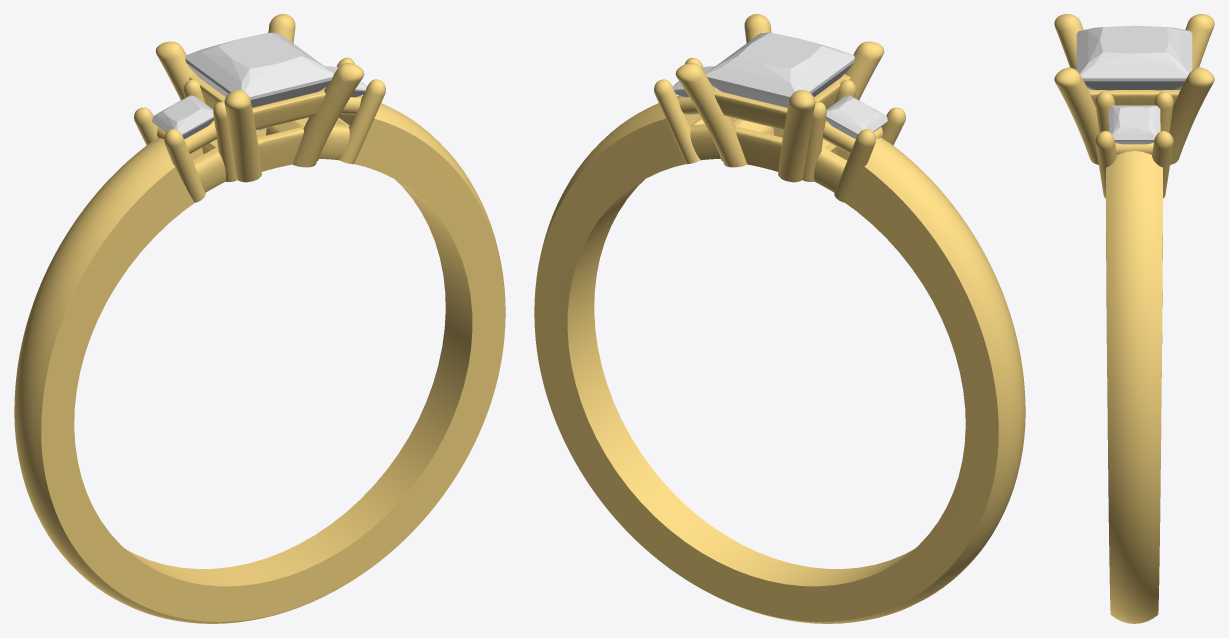
Rendered from Peter_&_Carina_v2_blender.glb.
The picture shows the model from 3 angles, left to right: view 1: azimuth 30°, elevation 25°; view 2: azimuth 150°, elevation 25°; view 3: azimuth 270°, elevation 25°; orthographic projection.
Visible parts, largest first — view 1: v2 YG for 3d model, v2 dia for 3d model.002, v2 dia for 3d model.001; view 2: v2 YG for 3d model, v2 dia for 3d model.002, v2 dia for 3d model.001; view 3: v2 YG for 3d model, v2 dia for 3d model.002, v2 dia for 3d model.
Part boxes in pixels (x1=…): v2 YG for 3d model: x1=14, y1=14, x2=505, y2=623; v2 dia for 3d model.002: x1=185, y1=32, x2=334, y2=130; v2 dia for 3d model.001: x1=152, y1=95, x2=213, y2=138; v2 YG for 3d model: x1=534, y1=14, x2=1025, y2=623; v2 dia for 3d model.002: x1=705, y1=32, x2=854, y2=130; v2 dia for 3d model.001: x1=826, y1=95, x2=887, y2=138; v2 YG for 3d model: x1=1054, y1=14, x2=1214, y2=623; v2 dia for 3d model.002: x1=1076, y1=25, x2=1192, y2=90; v2 dia for 3d model: x1=1108, y1=105, x2=1160, y2=144.
Bounding box in the file's own units: 21.14 × 23.74 × 6.18.
